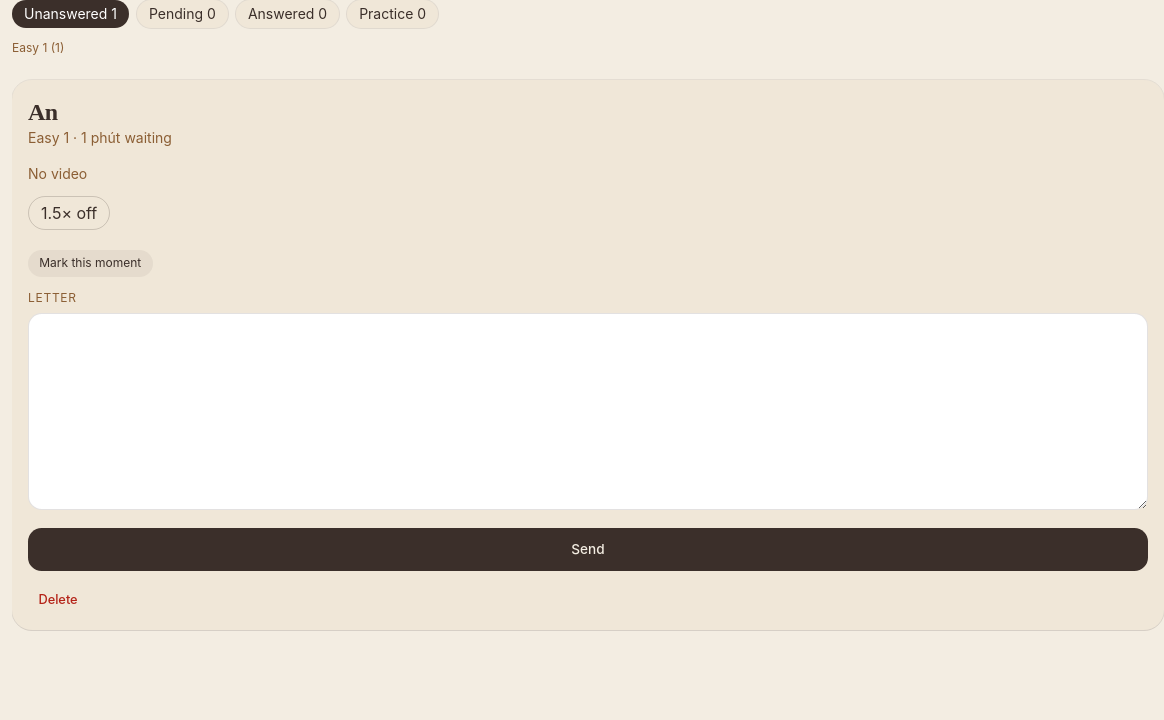
Test: QueueClient › shows an inline error when sending an empty reply
This screenshot has width=1164, height=720.
What coordinates should you click on to do the following:
click the button "Send"
I would click on:
 (588, 549)
Its box is x1=28 y1=528 x2=1148 y2=571.
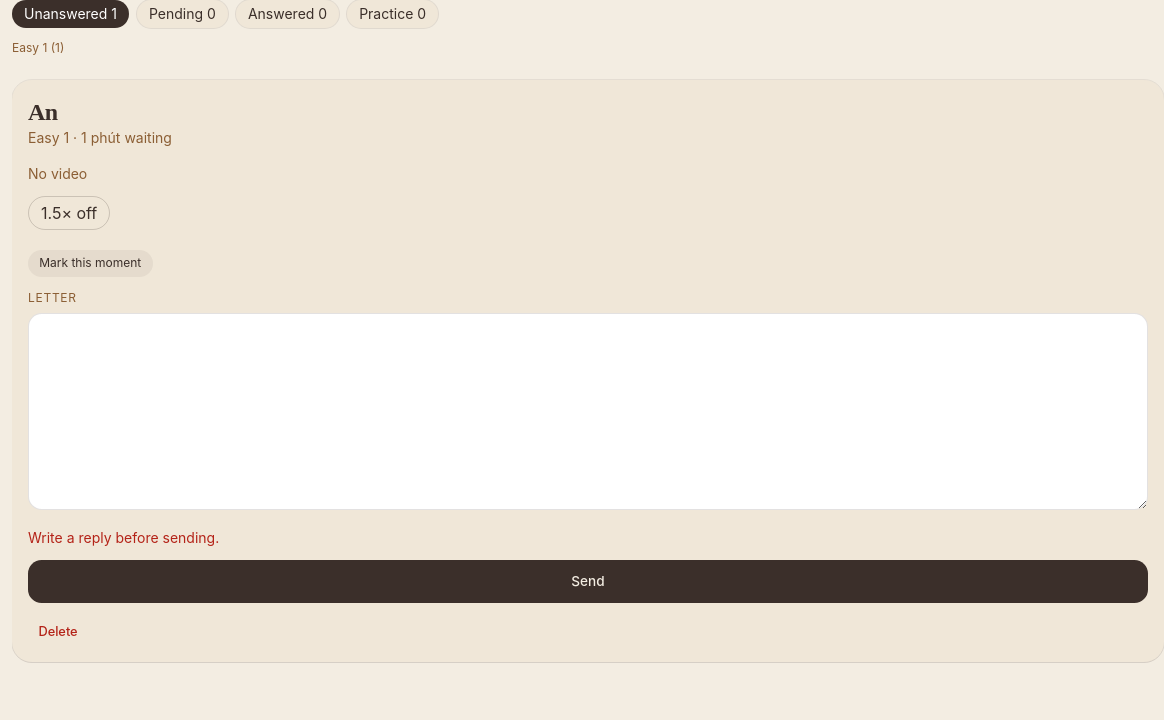
Now the text "Write a reply before sending." is shown, box x1=28 y1=529 x2=219 y2=546
